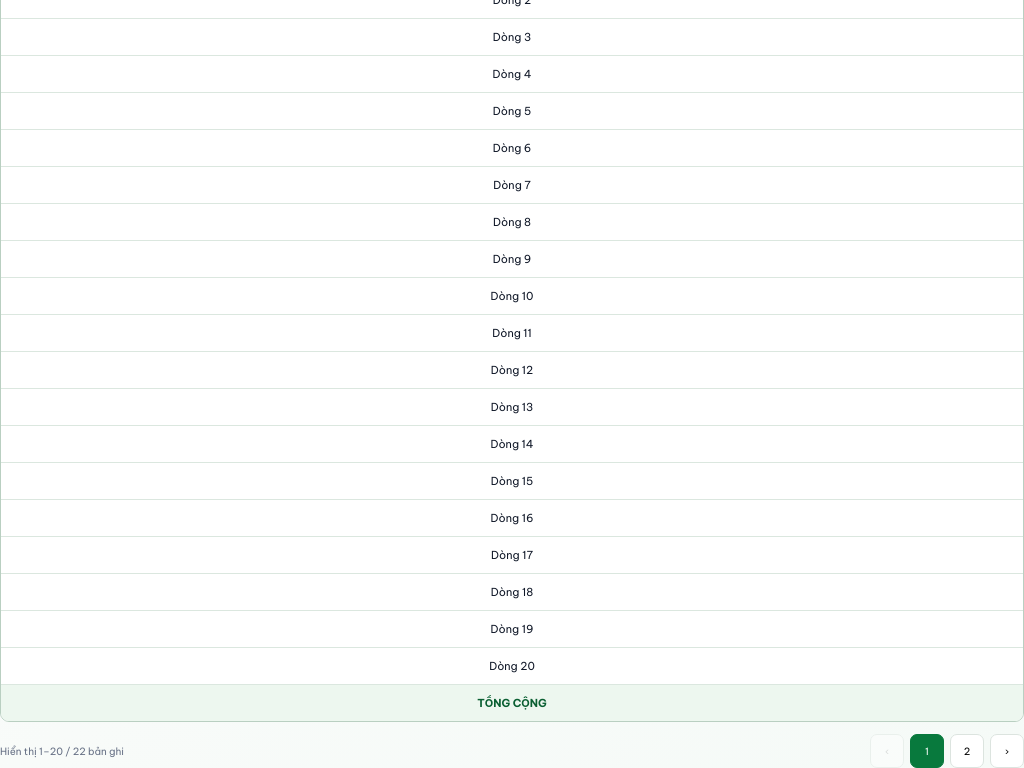
TableWrap pagination › keeps total rows visible while paging data rows
(page scrolled)
Expected: the text "TỔNG CỘNG" is shown, [1,684,1023,721]
Click the button named "Trang 2" at [967, 751], box [950,734,984,767]
(page scrolled)
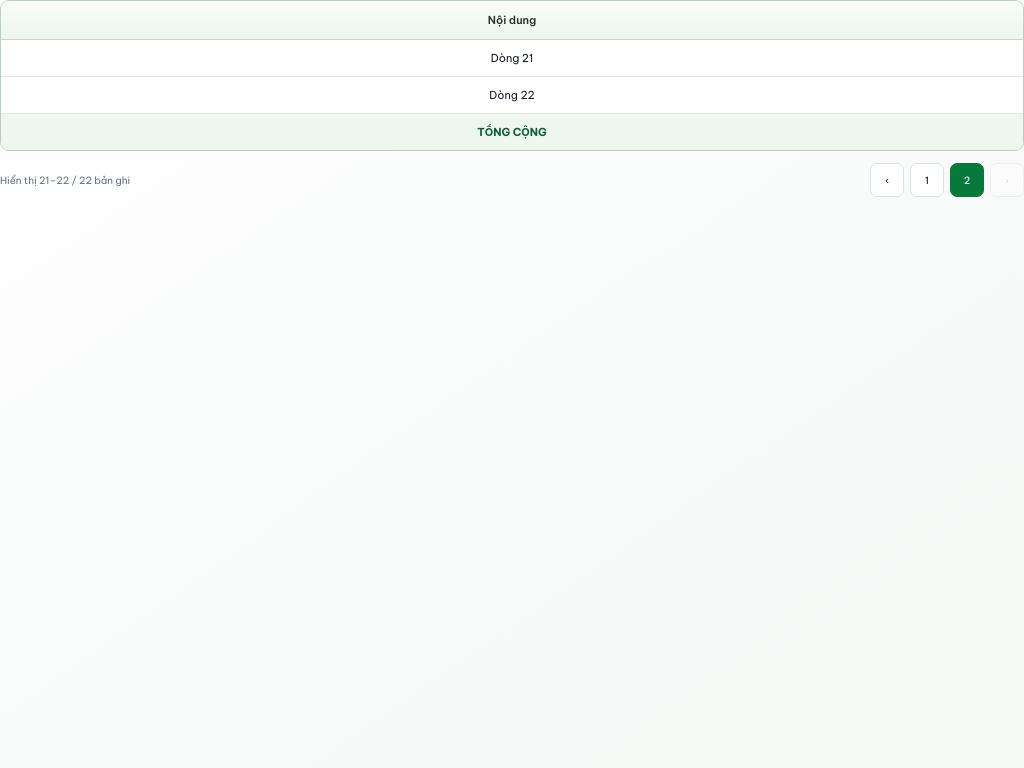
Expected: the text "TỔNG CỘNG" is shown, [1,114,1023,150]
Now the text "Dòng 21" is shown, box [1,40,1023,76]
